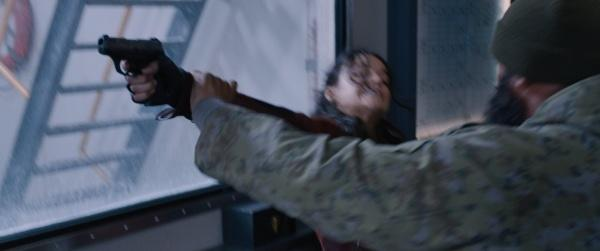Gun: (98, 35, 166, 105)
